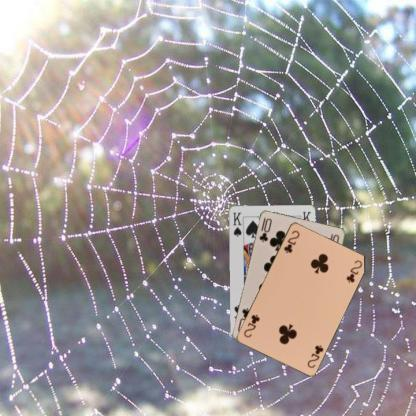10c: (256, 216, 272, 243)
2c: (304, 342, 324, 369), (281, 228, 300, 254)
Ks: (230, 210, 243, 237)
